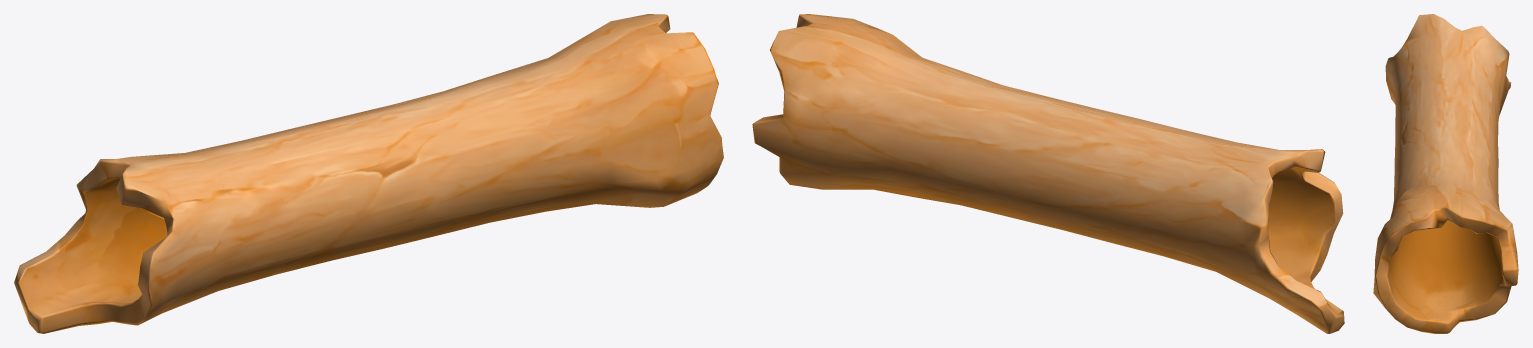
Rendered from BrokenBone.glb.
3 renders of one model, left to right at view 1: azimuth 30°, elevation 25°; view 2: azimuth 150°, elevation 25°; view 3: azimuth 270°, elevation 25°, orthographic. The views are drawn at different scales.
Visible parts, largest first — view 1: geometry_0; view 2: geometry_0; view 3: geometry_0.
Part boxes in pixels (left/top/right/bottom): geometry_0: left=14, top=14, right=723, bottom=333; geometry_0: left=752, top=14, right=1344, bottom=333; geometry_0: left=1373, top=14, right=1518, bottom=333.
Size of the model in its own units: 1 by 0.2692 by 0.2644.
Materials: 1 (1 with a texture image).
